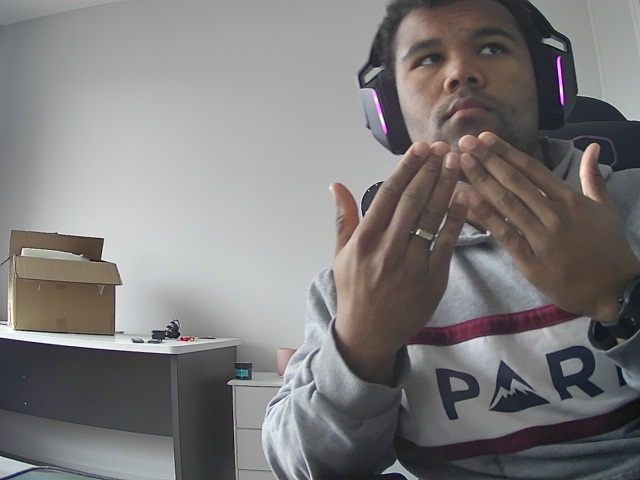ThankYou: (284, 122, 640, 358)
